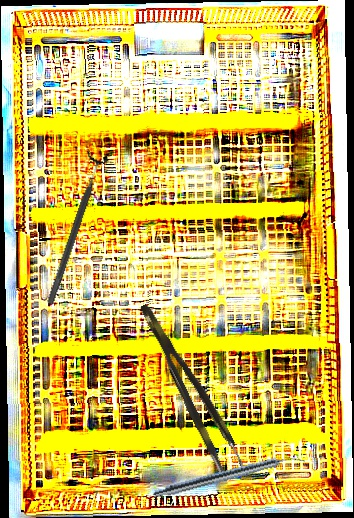Fixation Ring: (38, 149, 111, 308)
Handpiece: (151, 449, 306, 503)
Tissue Forceps: (137, 295, 249, 483)
